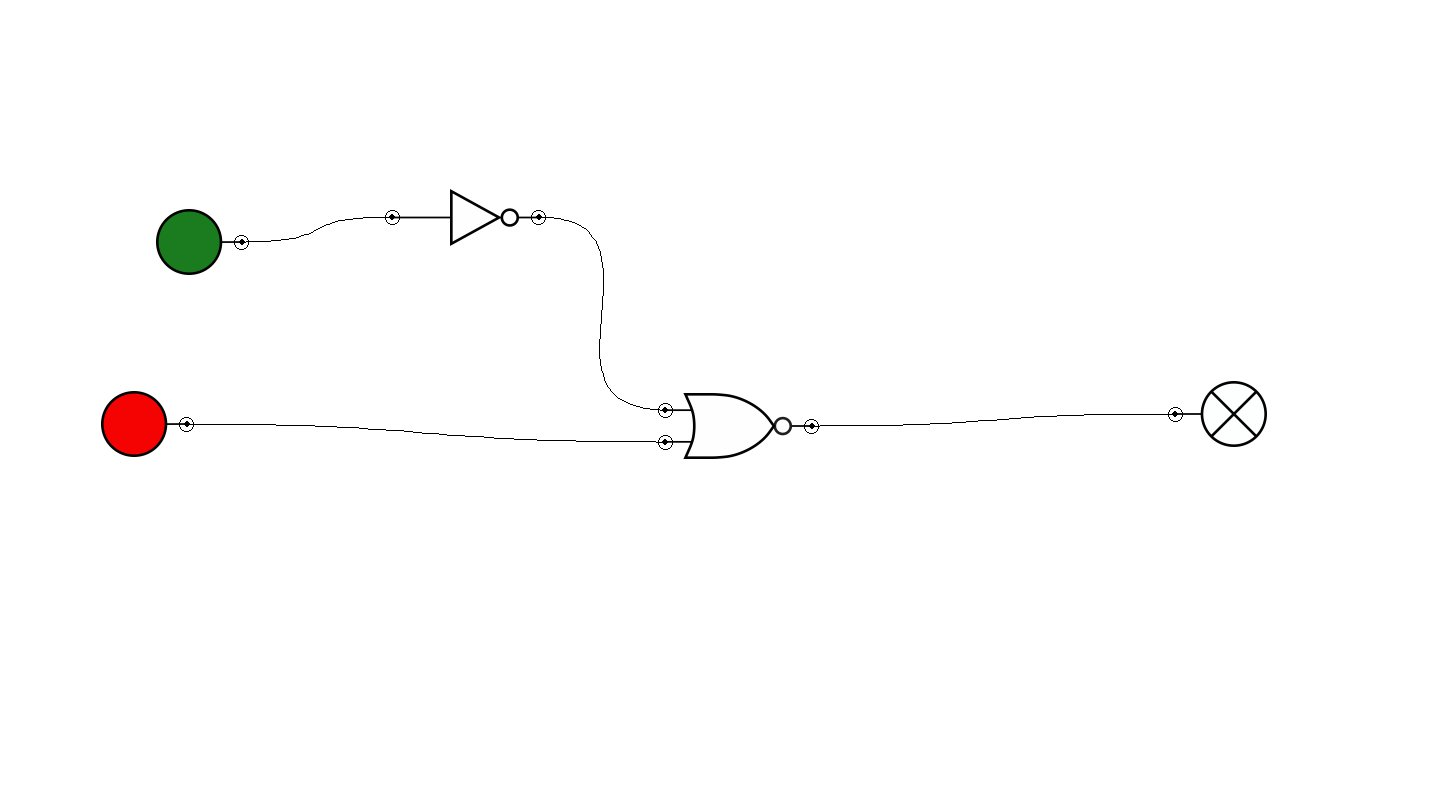bulb: (1168, 381, 1267, 447)
nor: (658, 393, 819, 459)
not: (385, 189, 546, 246)
switch_False: (101, 391, 194, 457)
switch_True: (156, 209, 249, 275)
